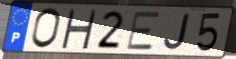2: (96, 10, 127, 51)
5: (195, 12, 222, 53)
E: (125, 11, 162, 52)
H: (59, 8, 98, 51)
J: (162, 12, 193, 52)
O: (29, 7, 63, 50)
